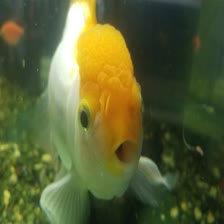Cuezo: (36, 0, 180, 223)
